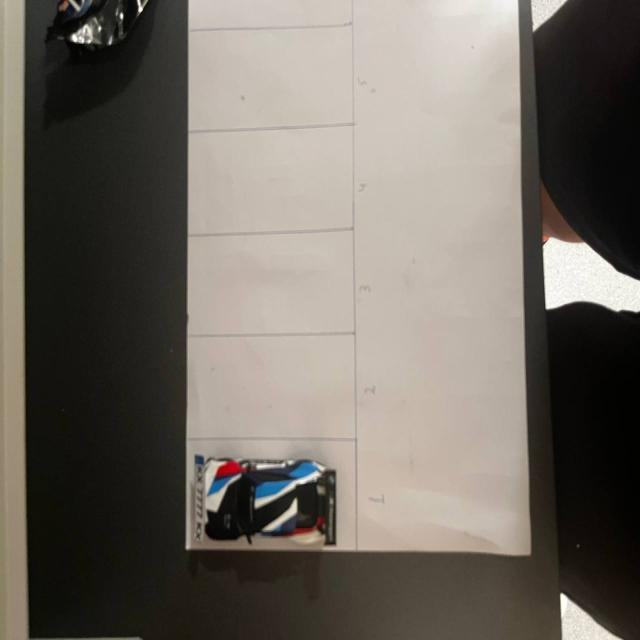KX 7777 KX: (193, 457, 207, 549)
